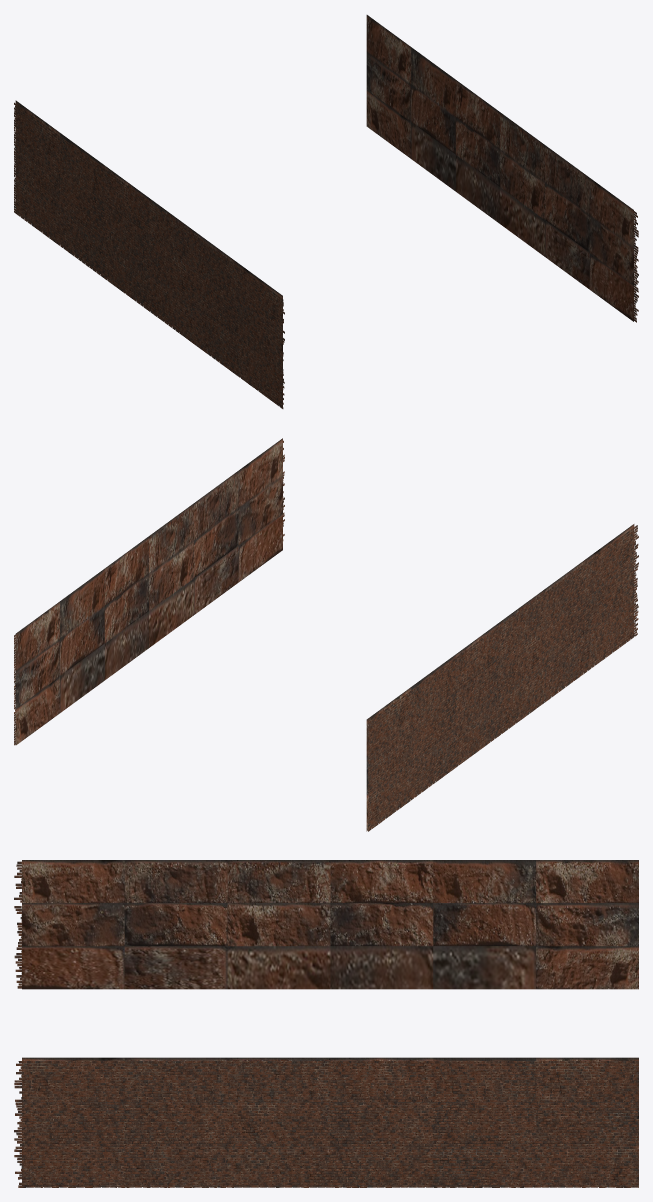
Rendered from arkade-side-brick.glb.
3 views of the same model, one above another, from view 1: azimuth 30°, elevation 25°; view 2: azimuth 150°, elevation 25°; view 3: azimuth 270°, elevation 25° (orthographic). The views are drawn at different scales.
Parts seen in each view (by area): view 1: side_wall_left, side_wall_right; view 2: side_wall_left, side_wall_right; view 3: side_wall_right, side_wall_left.
Part boxes in pixels (x1,y1,x2,y2): side_wall_left: (14, 100, 284, 408); side_wall_right: (366, 15, 638, 322); side_wall_left: (366, 524, 638, 831); side_wall_right: (14, 438, 284, 745); side_wall_right: (14, 1057, 638, 1187); side_wall_left: (14, 860, 638, 989).
Bounding box in the file's own units: 14.22 × 4.3 × 18.84.
Materials: 2 (2 with a texture image).
